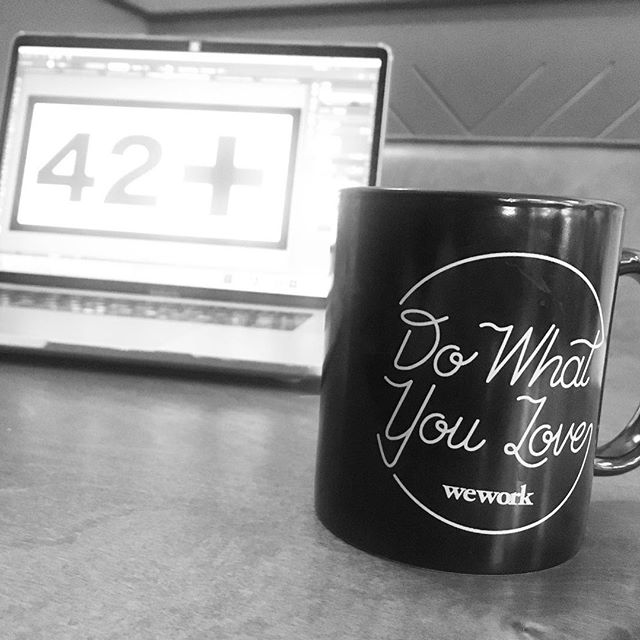wework: (439, 480, 538, 509)
